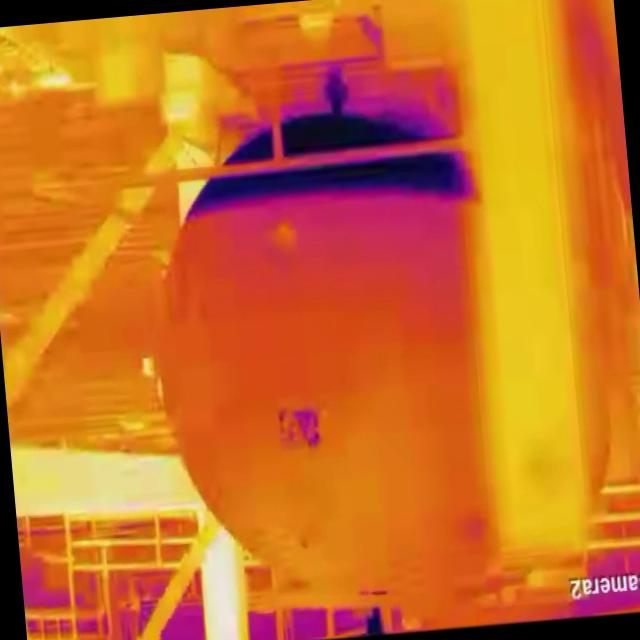tank: (138, 100, 508, 610)
